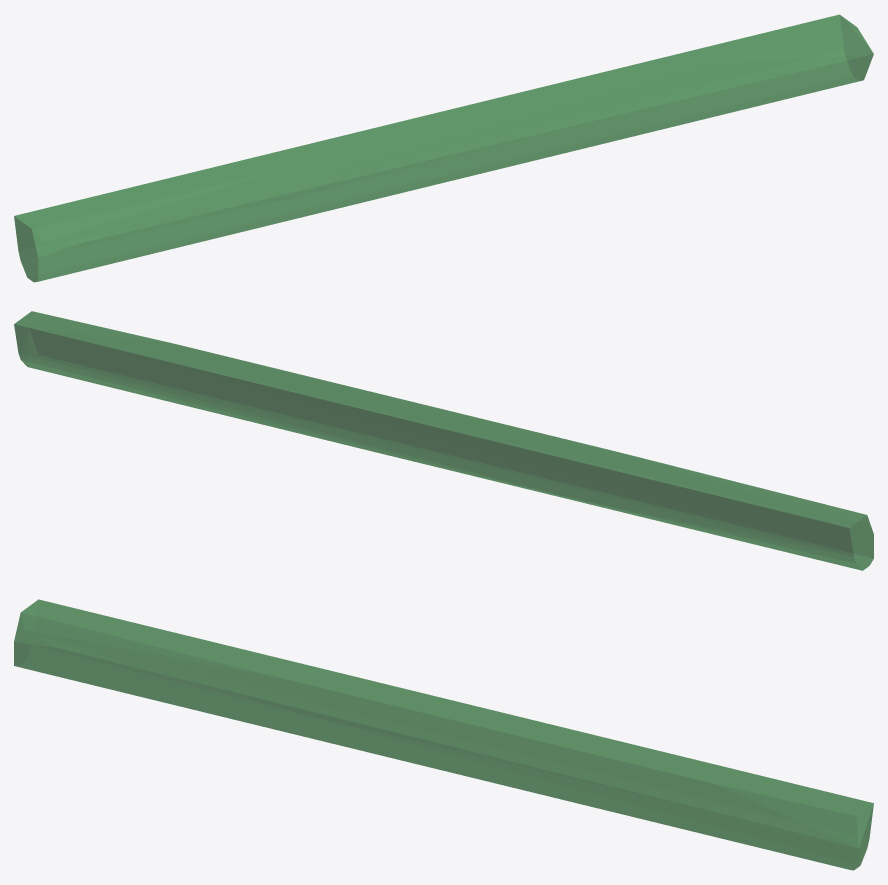
3 renders of one model, top to bottom at view 1: azimuth 30°, elevation 25°; view 2: azimuth 150°, elevation 25°; view 3: azimuth 330°, elevation 25°, orthographic.
Visible parts, largest first — view 1: Shape_IndexedFaceSet.003_Shape_IndexedFaceSet.17565; view 2: Shape_IndexedFaceSet.003_Shape_IndexedFaceSet.17565; view 3: Shape_IndexedFaceSet.003_Shape_IndexedFaceSet.17565.
Part boxes in pixels (box(x1,y1,x2,y2)): Shape_IndexedFaceSet.003_Shape_IndexedFaceSet.17565: box(14, 14, 873, 282); Shape_IndexedFaceSet.003_Shape_IndexedFaceSet.17565: box(14, 311, 873, 570); Shape_IndexedFaceSet.003_Shape_IndexedFaceSet.17565: box(14, 599, 873, 870).
Bounding box in the file's own units: 0.8844 × 0.0526 × 0.045.
